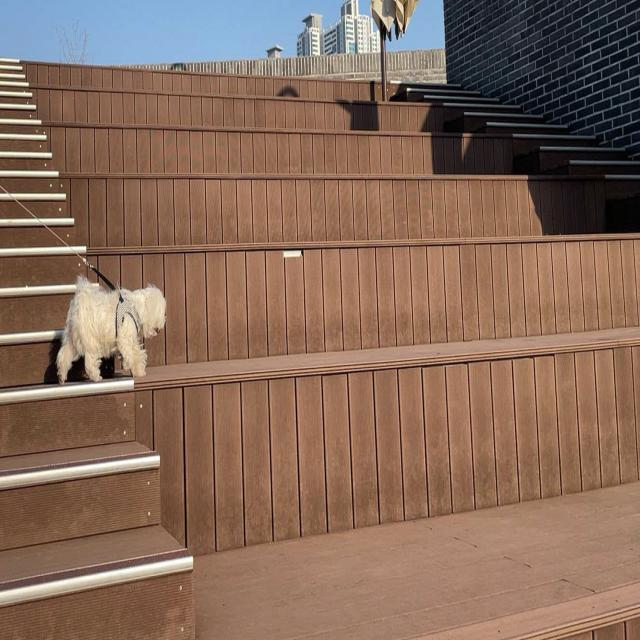Dog: (54, 273, 168, 382)
